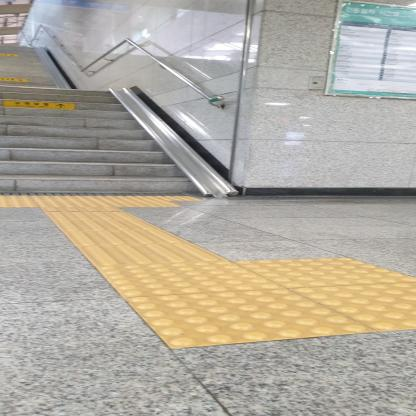go: (75, 242, 235, 268), (62, 228, 192, 247), (51, 218, 163, 232)
stop: (123, 288, 378, 349), (93, 261, 287, 299), (287, 281, 415, 332), (235, 257, 416, 288)
